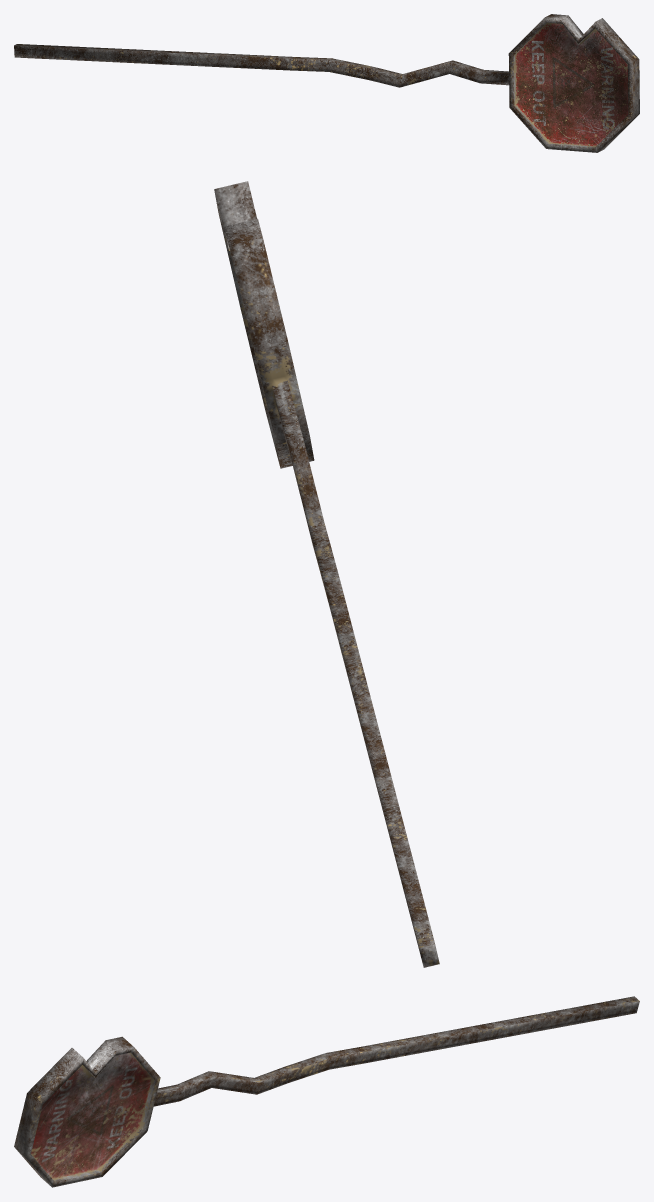
Rendered from Anim_idle_senyal_objetos.0048.obj.
3 views of the same model, one above another, from view 1: azimuth 30°, elevation 25°; view 2: azimuth 150°, elevation 25°; view 3: azimuth 270°, elevation 25° (orthographic). The views are drawn at different scales.
Size of the model in its own units: 7.88 by 2.72 by 10.09.
